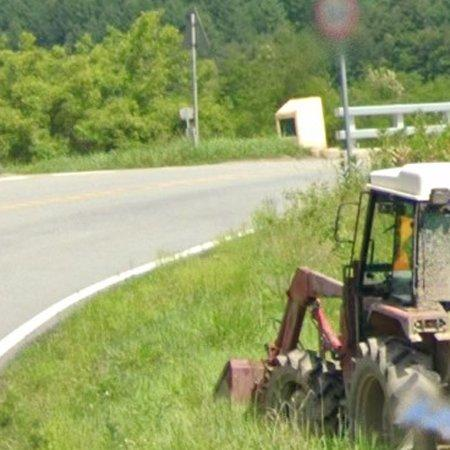tractors: (219, 163, 450, 450)
